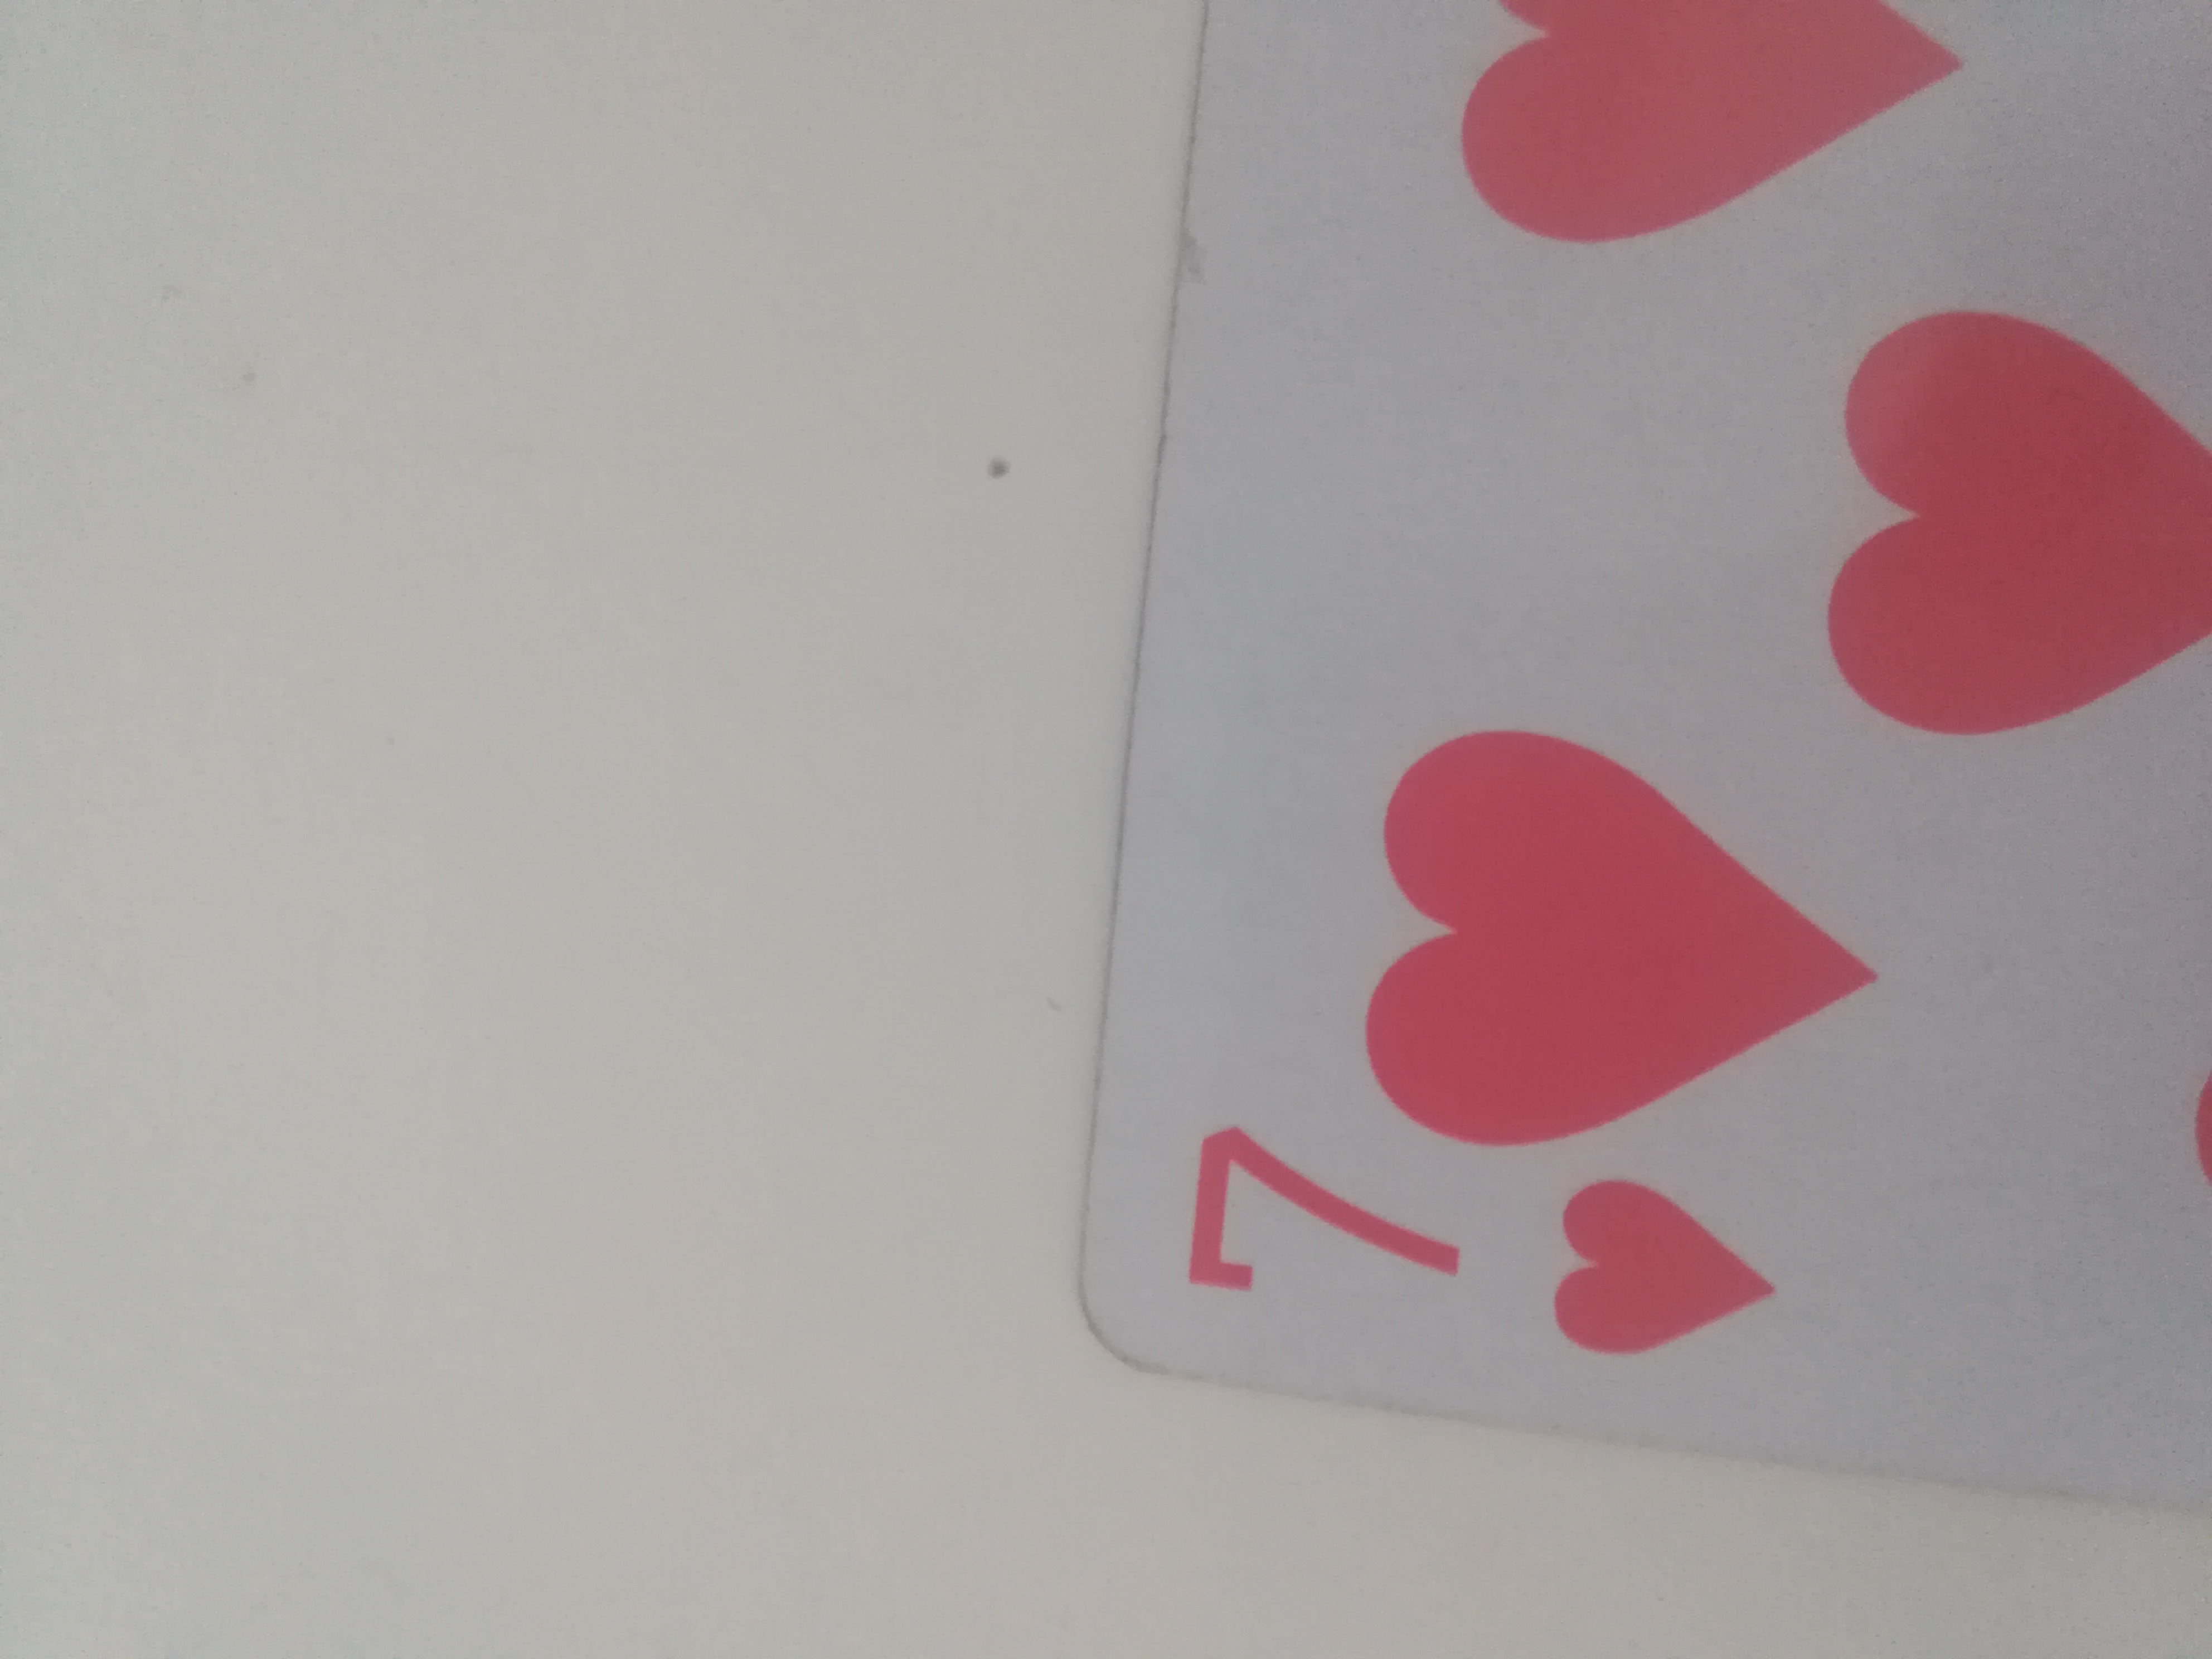7H: (1062, 5, 2212, 1521)
